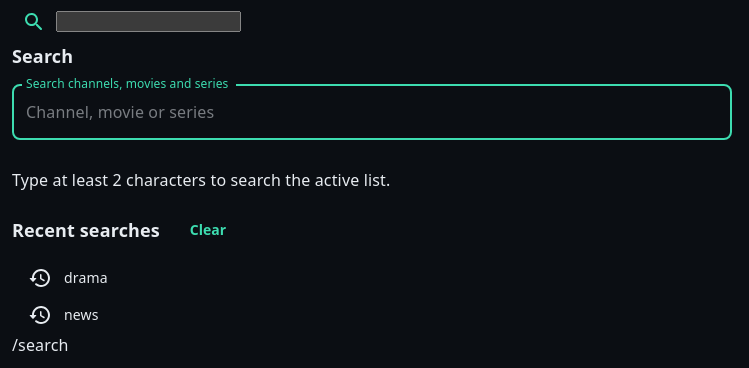
Test: recent searches (AC4) › lists them when the field is empty, runs one on click and clears them
This screenshot has width=749, height=368.
Click the button "news".
click(63, 315)  # box [28,303,99,327]
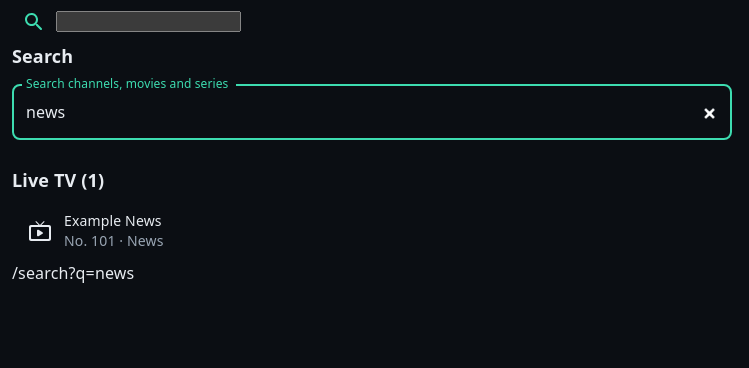
expect the search field labelled "Search channels, movies and series" holds "news": met
expect the text "Example News" is shown: met, box [64,211,162,230]
Back to an empty field: "news" is now the most recent search.
Clear the search field labelled "Search channels, movies and series" at (372, 112), box [12,84,732,140]
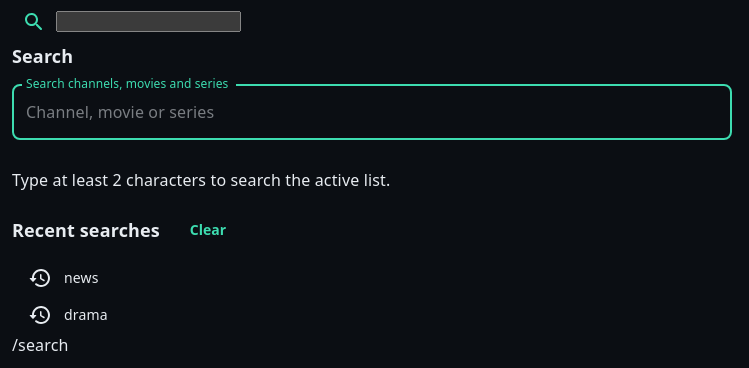
Click the button with aria-label "Clear recent searches".
click(208, 230)  # box [176,208,240,252]
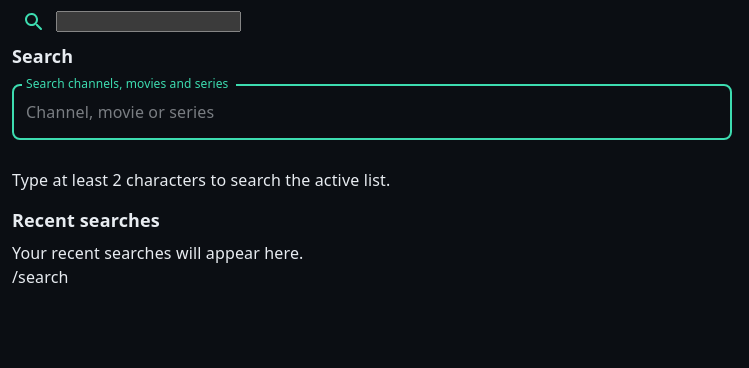
expect the text "Your recent searches will appear here." is shown: met, box [12,242,304,264]
